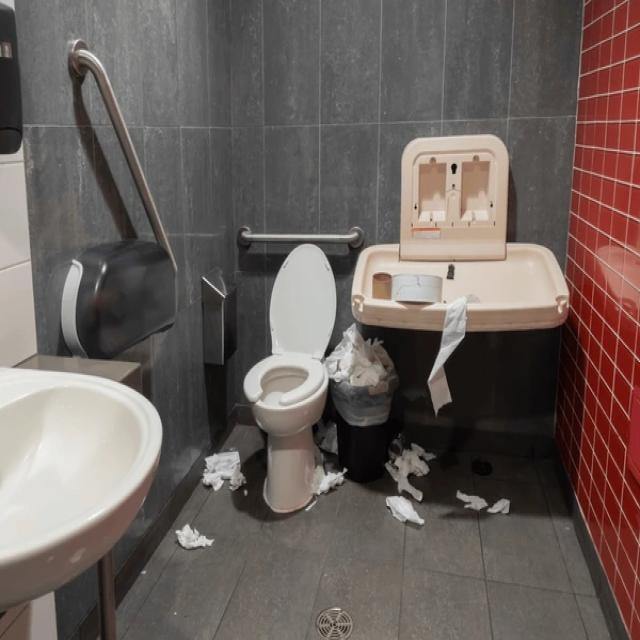garbage: (427, 298, 480, 433), (378, 434, 433, 528), (453, 475, 522, 532), (194, 441, 252, 499), (169, 507, 229, 563)
overflow_bin: (312, 317, 440, 540)
